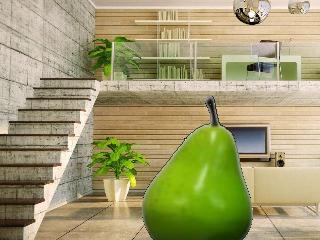pear: (142, 98, 252, 238)
